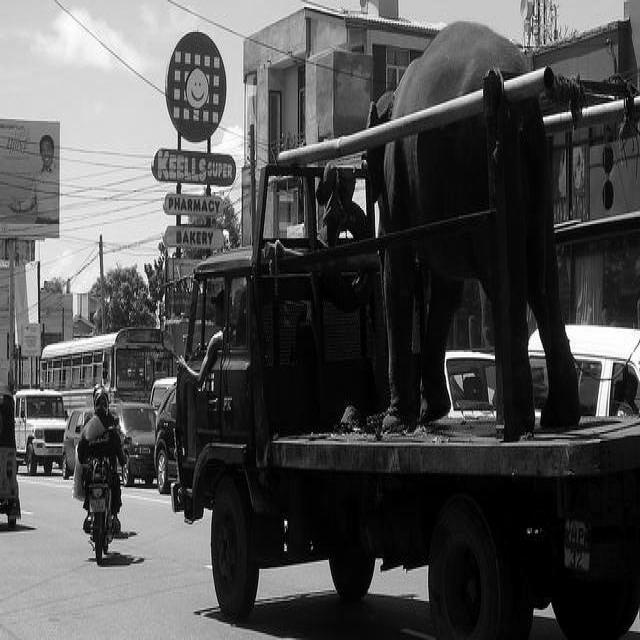vehicle: (165, 19, 640, 640), (527, 320, 640, 420), (40, 326, 174, 408), (14, 380, 70, 476), (15, 379, 69, 478), (109, 402, 157, 488), (443, 348, 497, 420), (153, 384, 179, 495), (62, 404, 94, 480), (149, 375, 179, 405)
